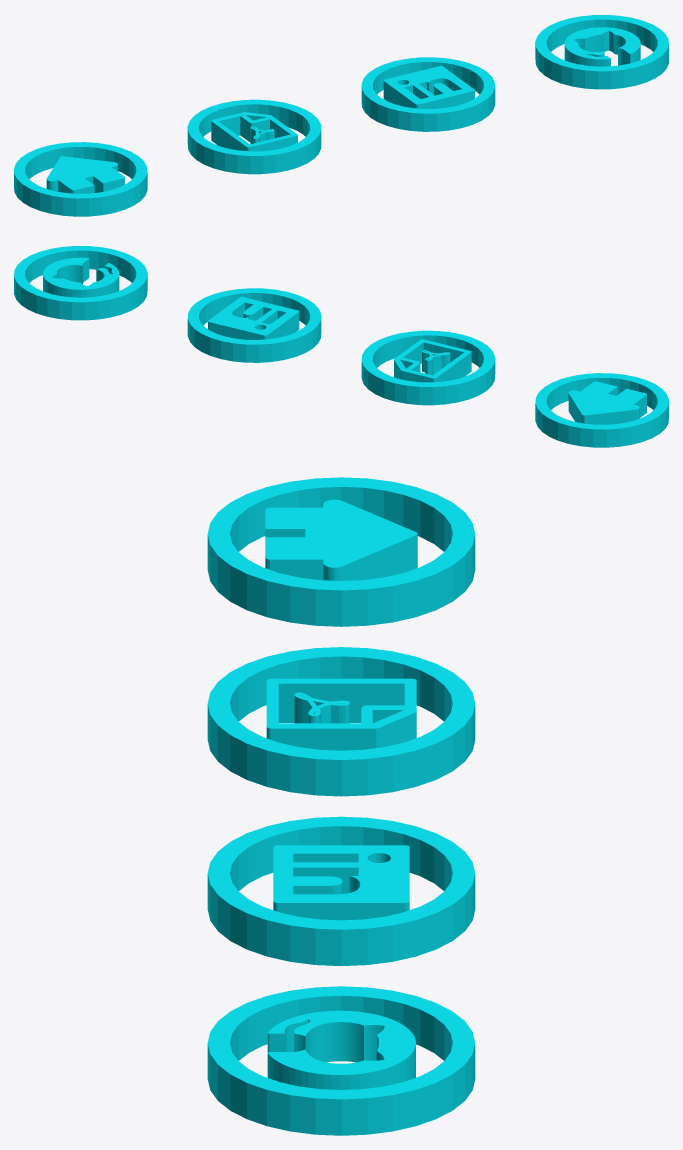
File: buttons.glb
The picture shows the model from 3 angles, top to bottom: view 1: azimuth 30°, elevation 25°; view 2: azimuth 150°, elevation 25°; view 3: azimuth 270°, elevation 25°; orthographic projection. The views are drawn at different scales.
Visible parts, largest first — view 1: button_home_circle, button_pdf_circle, button_github_circle, button_linkedin_circle, button_linkedin_curve, button_pdf_curve, button_github_curve, button_home_curve; view 2: button_github_circle, button_pdf_circle, button_linkedin_circle, button_home_circle, button_linkedin_curve, button_home_curve, button_pdf_curve, button_github_curve; view 3: button_home_circle, button_pdf_circle, button_linkedin_circle, button_github_circle, button_pdf_curve, button_github_curve, button_home_curve, button_linkedin_curve.
Part boxes in pixels (box(x1,y1,x2,y2)): button_home_circle: box(14, 142, 147, 216); button_pdf_circle: box(187, 99, 321, 174); button_github_circle: box(535, 15, 668, 89); button_linkedin_circle: box(361, 57, 495, 131); button_linkedin_curve: box(383, 66, 474, 108); button_pdf_curve: box(211, 112, 297, 151); button_github_curve: box(564, 27, 640, 66); button_home_curve: box(46, 156, 124, 193); button_github_circle: box(14, 246, 147, 320); button_pdf_circle: box(361, 330, 495, 405); button_linkedin_circle: box(187, 288, 321, 362); button_home_circle: box(535, 373, 668, 447); button_linkedin_curve: box(208, 297, 299, 339); button_home_curve: box(568, 381, 646, 424); button_pdf_curve: box(394, 339, 471, 382); button_github_curve: box(43, 257, 119, 297); button_home_circle: box(207, 477, 475, 626); button_pdf_circle: box(207, 647, 475, 796); button_linkedin_circle: box(207, 816, 475, 965); button_github_circle: box(207, 986, 475, 1135); button_pdf_curve: box(266, 678, 416, 750); button_github_curve: box(267, 1010, 415, 1089); button_home_curve: box(265, 499, 417, 580); button_linkedin_curve: box(273, 845, 409, 920).
Bounding box in the file's own units: 11 × 0.332 × 2.
